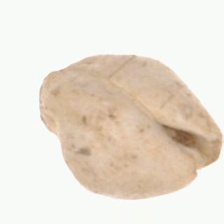L1: (162, 120, 222, 183), (37, 69, 50, 129)
L2: (39, 54, 222, 200)
